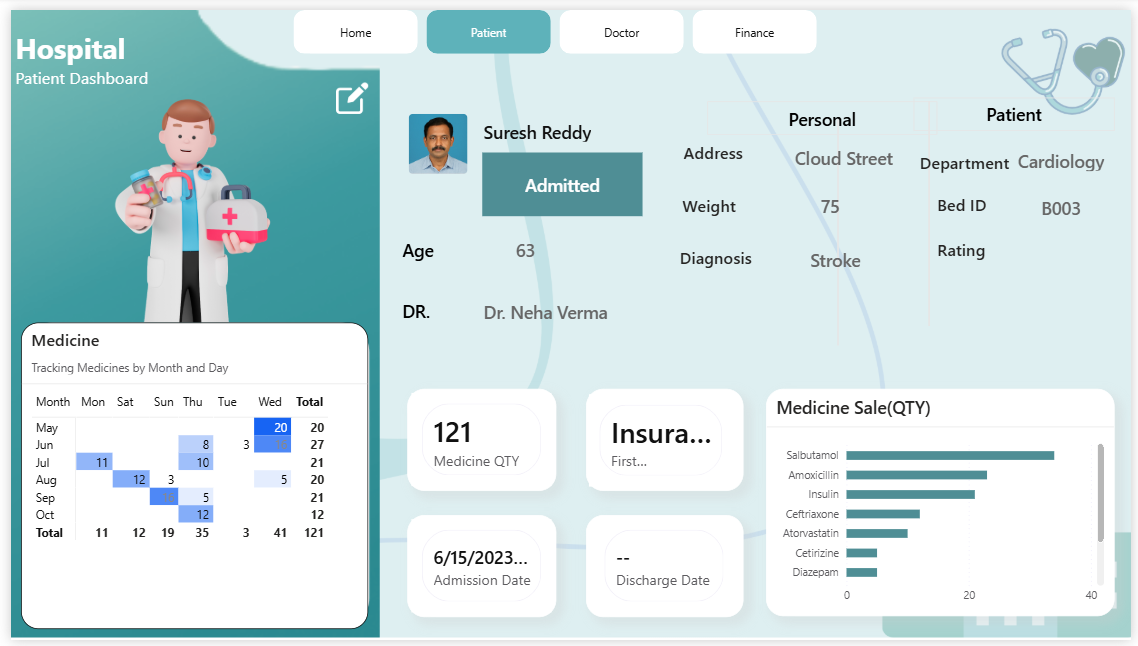

What the dashboard file says about the page in this screenshot:
{"tool":"powerbi","page":{"name":"Patient","canvas":[1280,720],"ordinal":1},"visuals":[{"type":"shape","box":[453.3,576.7,170,116.7],"z":0},{"type":"shape","box":[656.7,576.7,180,116.7],"z":1000},{"type":"shape","box":[453.3,433.3,170,116.7],"z":2000},{"type":"shape","box":[656.7,433.3,180,116.7],"z":3000},{"type":"cardVisual","fields":{"Data":["_Measures.Total_Med_Sale_QTY"]},"box":[453.3,433.3,170,116.7],"z":4000},{"type":"cardVisual","fields":{"Data":["Min(appointments.payment_method)"]},"box":[656.3,434.3,174.9,115.8],"z":5000},{"type":"cardVisual","fields":{"Data":["Min(patient_info.patient_admission_date)"]},"box":[453.3,576.7,170,116.7],"z":6000},{"type":"cardVisual","fields":{"Data":["Min(patient_info.patient_discharge_date)"]},"box":[661.7,576.7,170,116.7],"z":7000},{"type":"image","box":[61.7,76.7,280,280],"z":8000},{"type":"textbox","box":[0,16.7,225,96.7],"z":9000},{"type":"image","box":[371.7,70,36.7,61.7],"z":10000},{"type":"pivotTable","title":"Medicine  ","fields":{"Values":["Sum(medicine_patient_1.qty)"],"Columns":["Calendar.Day"],"Rows":["Calendar.Month"]},"box":[11.7,356.7,396.7,350],"z":11000},{"type":"clusteredBarChart","title":"Medicine Sale(QTY)","fields":{"Y":["Sum(medicine_patient_1.qty)"],"Category":["medical_stock_info.name"]},"box":[863.3,433.3,398.3,260],"z":12000},{"type":"cardVisual","fields":{"Data":["Min(patient_info.patient_Img)"]},"box":[425.4,64.4,284.7,178],"z":13000},{"type":"cardVisual","fields":{"Data":["Min(patient_info.patient_name)"]},"box":[469.3,108.6,263,59.1],"z":14000},{"type":"cardVisual","fields":{"Data":["Min(patient_info.patient_age)"]},"box":[489.8,242.4,196.6,61],"z":15000},{"type":"cardVisual","fields":{"Data":["Min(patient_info.doctor_name)"]},"box":[489.8,313.7,242.5,60.3],"z":16000},{"type":"shape","box":[447.5,242.4,40.7,61],"z":17000},{"type":"shape","box":[447.5,313.6,40.7,61],"z":18000},{"type":"shape","box":[732.3,124.3,424.7,259.4],"z":20000},{"type":"shape","box":[818.6,104.3,461.4,257.1],"z":21000},{"type":"shape","box":[768.3,131.7,108.3,61.7],"z":22000},{"type":"shape","box":[766.7,193.3,108.3,61.7],"z":23000},{"type":"shape","box":[763.7,253.4,108.6,60.3],"z":24000},{"type":"shape","box":[795,103.8,263,38.6],"z":25000},{"type":"shape","box":[1038.2,142.7,108.2,61.8],"z":26000},{"type":"shape","box":[1058,191.8,108.6,61.5],"z":27000},{"type":"shape","box":[1058,244.9,108.6,59.1],"z":28000},{"type":"shape","box":[1031.7,100,230,38.3],"z":29000},{"type":"cardVisual","fields":{"Data":["Min(patient_info.patient_address)"]},"box":[845.7,137.5,212.3,61.5],"z":30000},{"type":"cardVisual","fields":{"Data":["Min(patient_info.patient_weight)"]},"box":[863.8,193,144.8,60.3],"z":31000},{"type":"cardVisual","fields":{"Data":["Min(appointments.diagnosis)"]},"box":[836.1,254.6,213.5,60.3],"z":32000},{"type":"cardVisual","fields":{"Data":["Min(patient_info.department_name)"]},"box":[1120,141.8,160,60.9],"z":33000},{"type":"cardVisual","fields":{"Data":["Min(patient_info.beds_bed_id)"]},"box":[1120,193.6,160,61.8],"z":34000},{"type":"cardVisual","fields":{"Data":["Min(patient_info.patient_status)"]},"box":[539,162.7,183.1,72.9],"z":35000},{"type":"pageNavigator","box":[323.3,0,600,50],"z":37000}]}

Visuals, with their boxes in screenshot pixels (x1, y1, x2, y2), scaled from the page's 1280x720 canvas onto the 1138x646 screenshot:
shape: (left=403, top=517, right=554, bottom=622)
shape: (left=584, top=517, right=744, bottom=622)
shape: (left=403, top=389, right=554, bottom=493)
shape: (left=584, top=389, right=744, bottom=493)
cardVisual - _Measures.Total_Med_Sale_QTY: (left=403, top=389, right=554, bottom=493)
cardVisual - Min(appointments.payment_method): (left=583, top=390, right=739, bottom=494)
cardVisual - Min(patient_info.patient_admission_date): (left=403, top=517, right=554, bottom=622)
cardVisual - Min(patient_info.patient_discharge_date): (left=588, top=517, right=739, bottom=622)
image: (left=55, top=69, right=304, bottom=320)
textbox: (left=0, top=15, right=200, bottom=102)
image: (left=330, top=63, right=363, bottom=118)
"Medicine  " pivotTable: (left=10, top=320, right=363, bottom=634)
"Medicine Sale(QTY)" clusteredBarChart: (left=768, top=389, right=1122, bottom=622)
cardVisual - Min(patient_info.patient_Img): (left=378, top=58, right=631, bottom=217)
cardVisual - Min(patient_info.patient_name): (left=417, top=97, right=651, bottom=150)
cardVisual - Min(patient_info.patient_age): (left=435, top=217, right=610, bottom=272)
cardVisual - Min(patient_info.doctor_name): (left=435, top=281, right=651, bottom=336)
shape: (left=398, top=217, right=434, bottom=272)
shape: (left=398, top=281, right=434, bottom=336)
shape: (left=651, top=112, right=1029, bottom=344)
shape: (left=728, top=94, right=1137, bottom=324)
shape: (left=683, top=118, right=779, bottom=174)
shape: (left=682, top=173, right=778, bottom=229)
shape: (left=679, top=227, right=776, bottom=281)
shape: (left=707, top=93, right=941, bottom=128)
shape: (left=923, top=128, right=1019, bottom=183)
shape: (left=941, top=172, right=1037, bottom=227)
shape: (left=941, top=220, right=1037, bottom=273)
shape: (left=917, top=90, right=1122, bottom=124)
cardVisual - Min(patient_info.patient_address): (left=752, top=123, right=941, bottom=179)
cardVisual - Min(patient_info.patient_weight): (left=768, top=173, right=897, bottom=227)
cardVisual - Min(appointments.diagnosis): (left=743, top=228, right=933, bottom=283)
cardVisual - Min(patient_info.department_name): (left=996, top=127, right=1137, bottom=182)
cardVisual - Min(patient_info.beds_bed_id): (left=996, top=174, right=1137, bottom=229)
cardVisual - Min(patient_info.patient_status): (left=479, top=146, right=642, bottom=211)
pageNavigator: (left=287, top=0, right=821, bottom=45)
